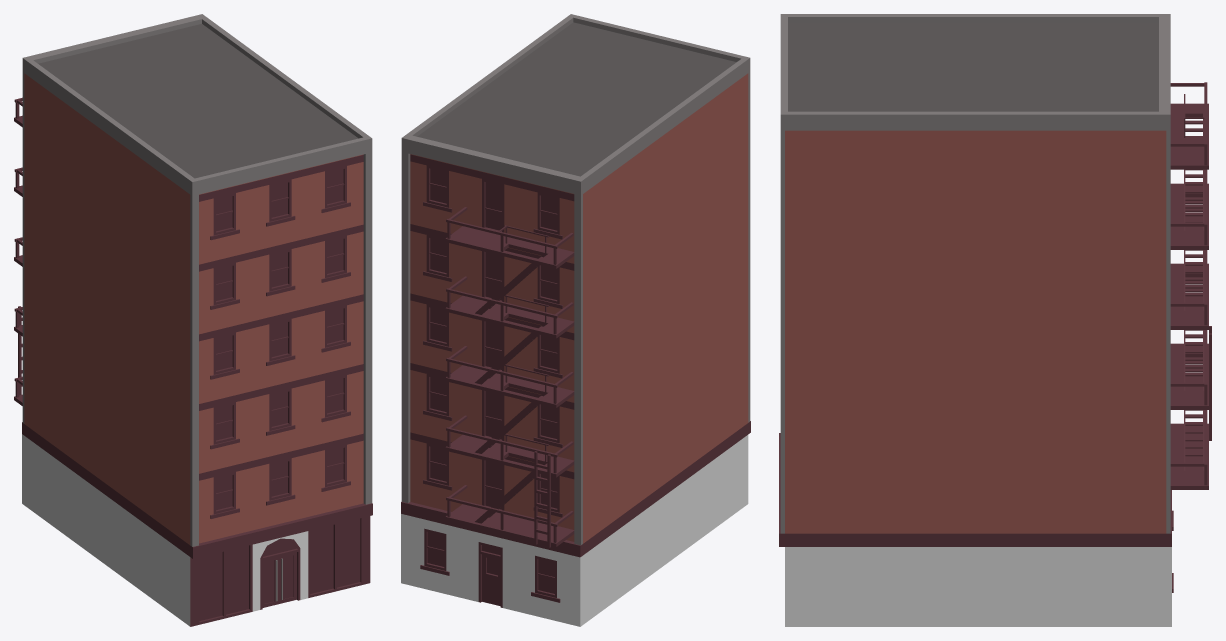
The model's file is Building 5 étages petit.fbx.
3 renders of one model, left to right at view 1: azimuth 30°, elevation 25°; view 2: azimuth 150°, elevation 25°; view 3: azimuth 270°, elevation 25°, orthographic. The views are drawn at different scales.
Parts seen in each view (by area): view 1: building-block-5floor-short; view 2: building-block-5floor-short; view 3: building-block-5floor-short.
Boxes of the visible parts, x1,y1,x2,y2 form: building-block-5floor-short: (14,14,372,626); building-block-5floor-short: (401,14,750,626); building-block-5floor-short: (779,14,1211,626).
Bounding box in the file's own units: 810 × 1920 × 1470.
